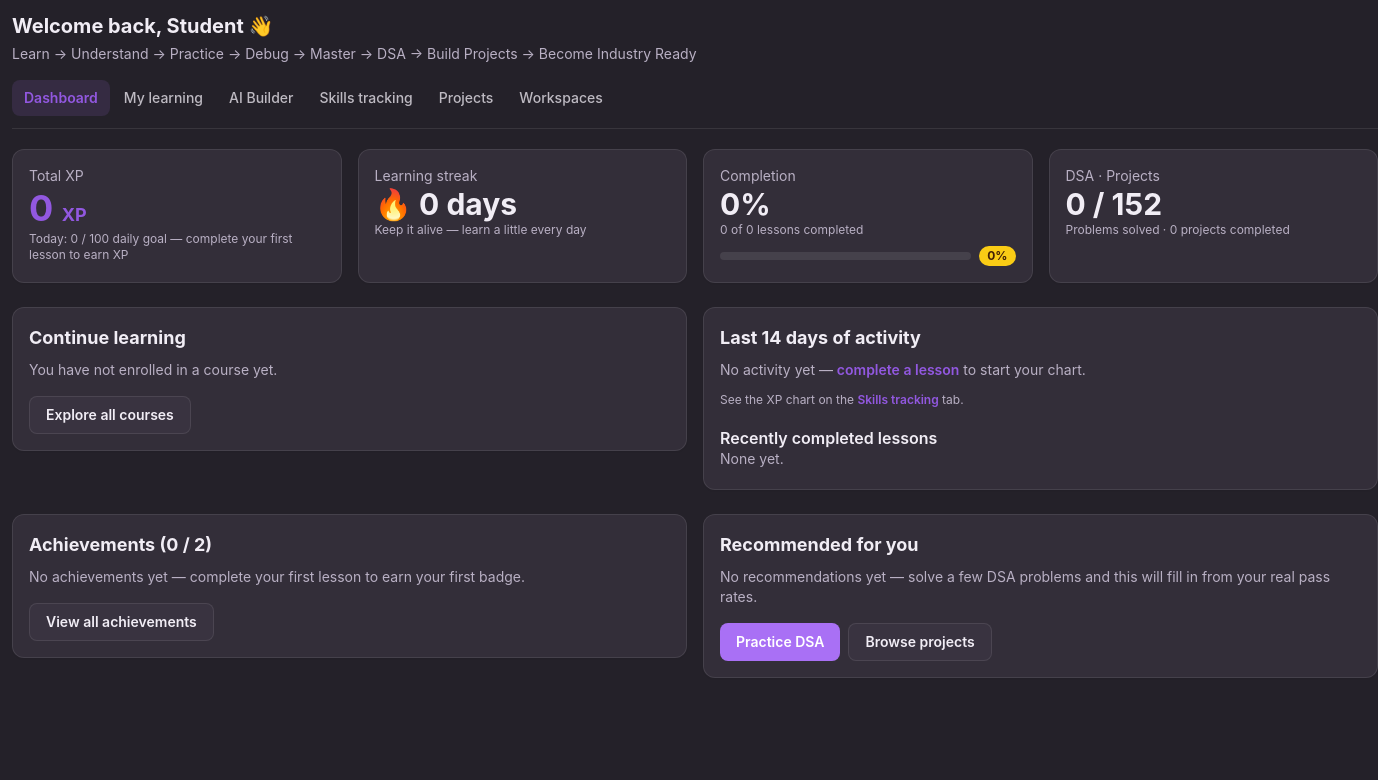
Test: DashboardPage My Home tabs › Workspaces tab shows an honest empty state with no started projects
Expected: the element with test id "total-xp" is shown, top-left (29, 186), bottom-right (87, 230)
Click the button "Workspaces": (561, 98) top-left (507, 80), bottom-right (615, 116)
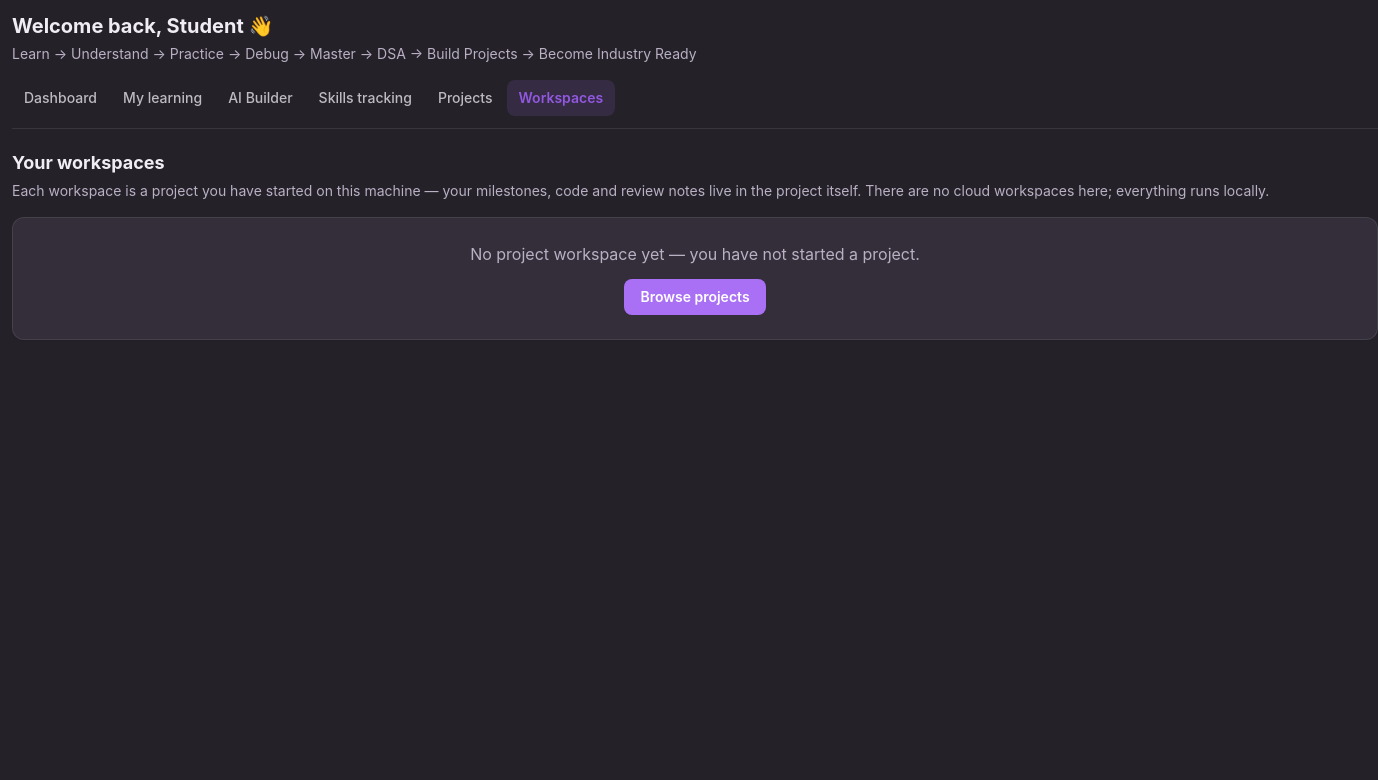
Expected: the text "No project workspace yet — you have not started a project." is shown, top-left (470, 244), bottom-right (920, 264)
